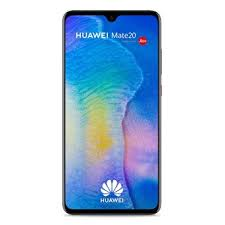huawei: (61, 6, 161, 216)
